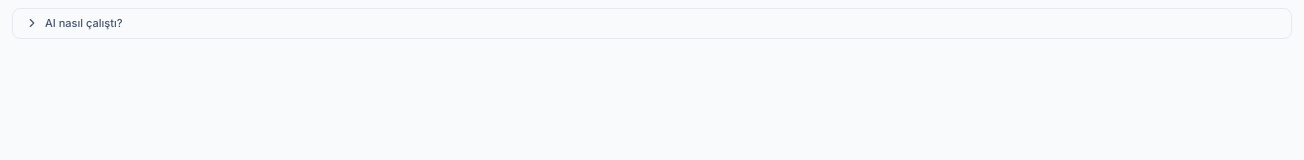
AiExplainPanel › falls back to the raw name for an unmapped tool (never crashes)
Click the button "AI nasıl çalıştı?".
click(84, 23)  # box [13,9,1291,38]
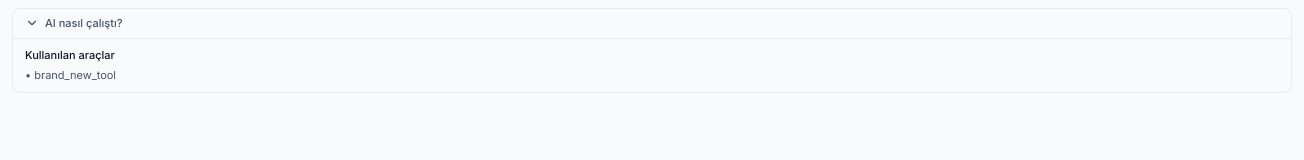
expect the text "brand_new_tool" is shown: met, box [34,68,116,82]
